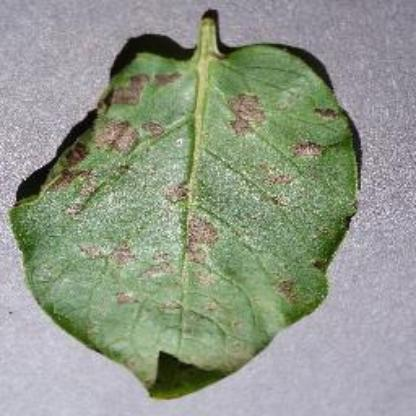Early-Blight: (6, 2, 374, 404)
